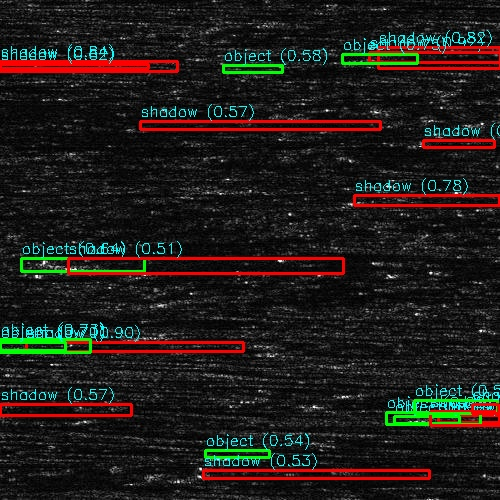rock: (0, 258, 155, 277), (349, 52, 422, 63), (0, 479, 42, 490), (0, 315, 10, 324)
shadow: (77, 258, 412, 277), (0, 315, 223, 324), (0, 479, 154, 490), (386, 52, 488, 63)
